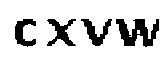c: (11, 15, 40, 48)
v: (79, 15, 112, 50)
w: (114, 16, 160, 52)
x: (45, 17, 77, 49)
